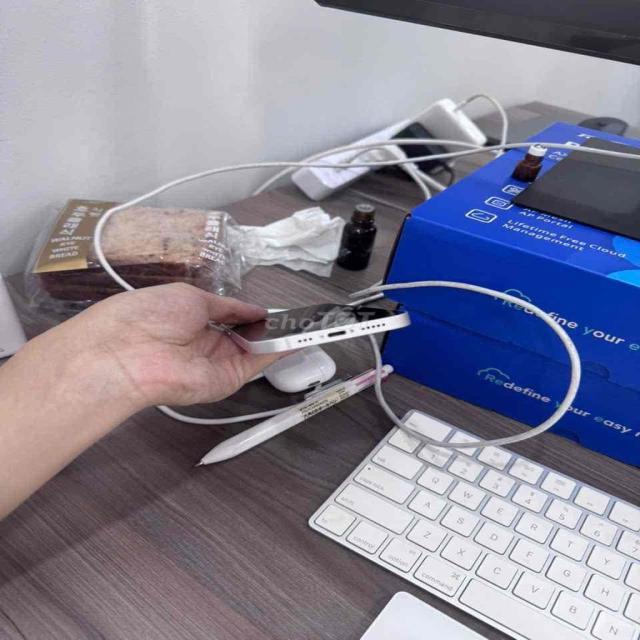gen_12_13: (220, 286, 423, 362)
